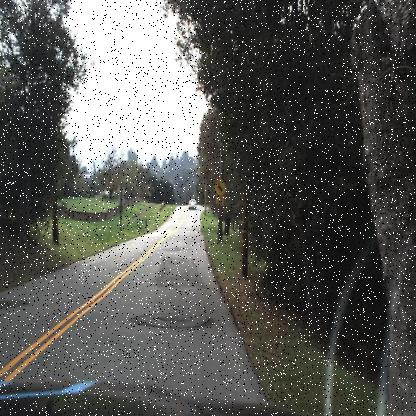car: (185, 196, 200, 214)
